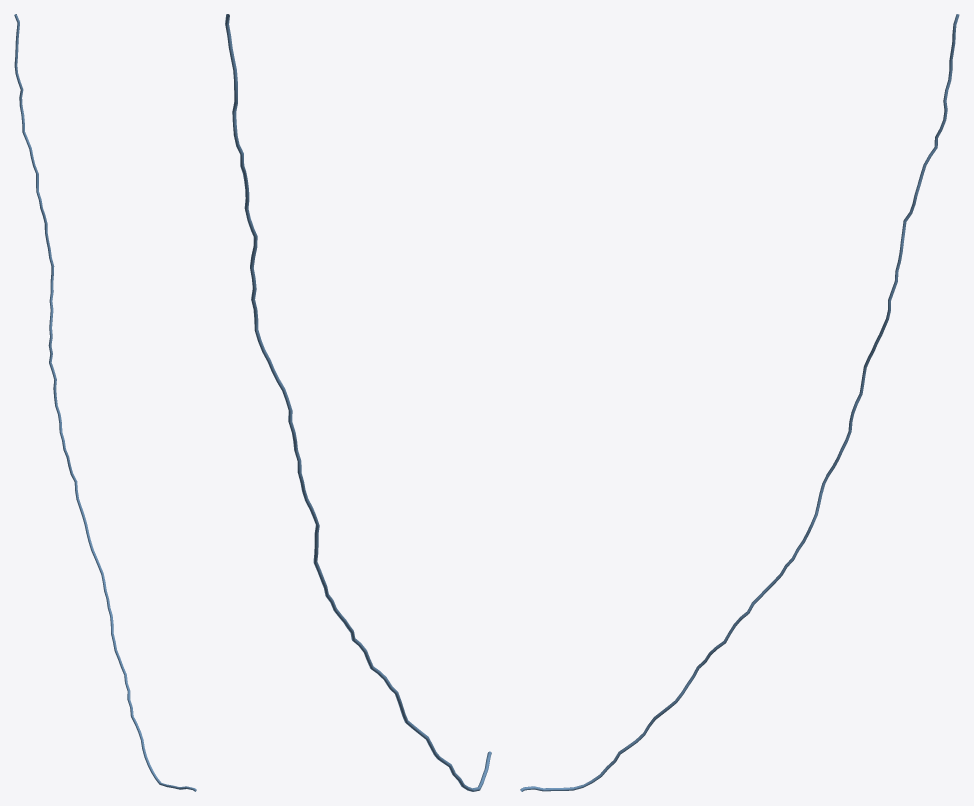
File: sweep344.fbx
3 views of the same model, side by side, from view 1: azimuth 30°, elevation 25°; view 2: azimuth 150°, elevation 25°; view 3: azimuth 270°, elevation 25° (orthographic). The views are drawn at different scales.
Parts seen in each view (by area): view 1: sweep344; view 2: sweep344; view 3: sweep344.
Part boxes in pixels (box(x1,y1,x2,y2)): sweep344: box(14, 14, 196, 791); sweep344: box(225, 14, 491, 791); sweep344: box(520, 14, 959, 791).
Size of the model in its own units: 0.2169 by 5.12 by 2.6.
